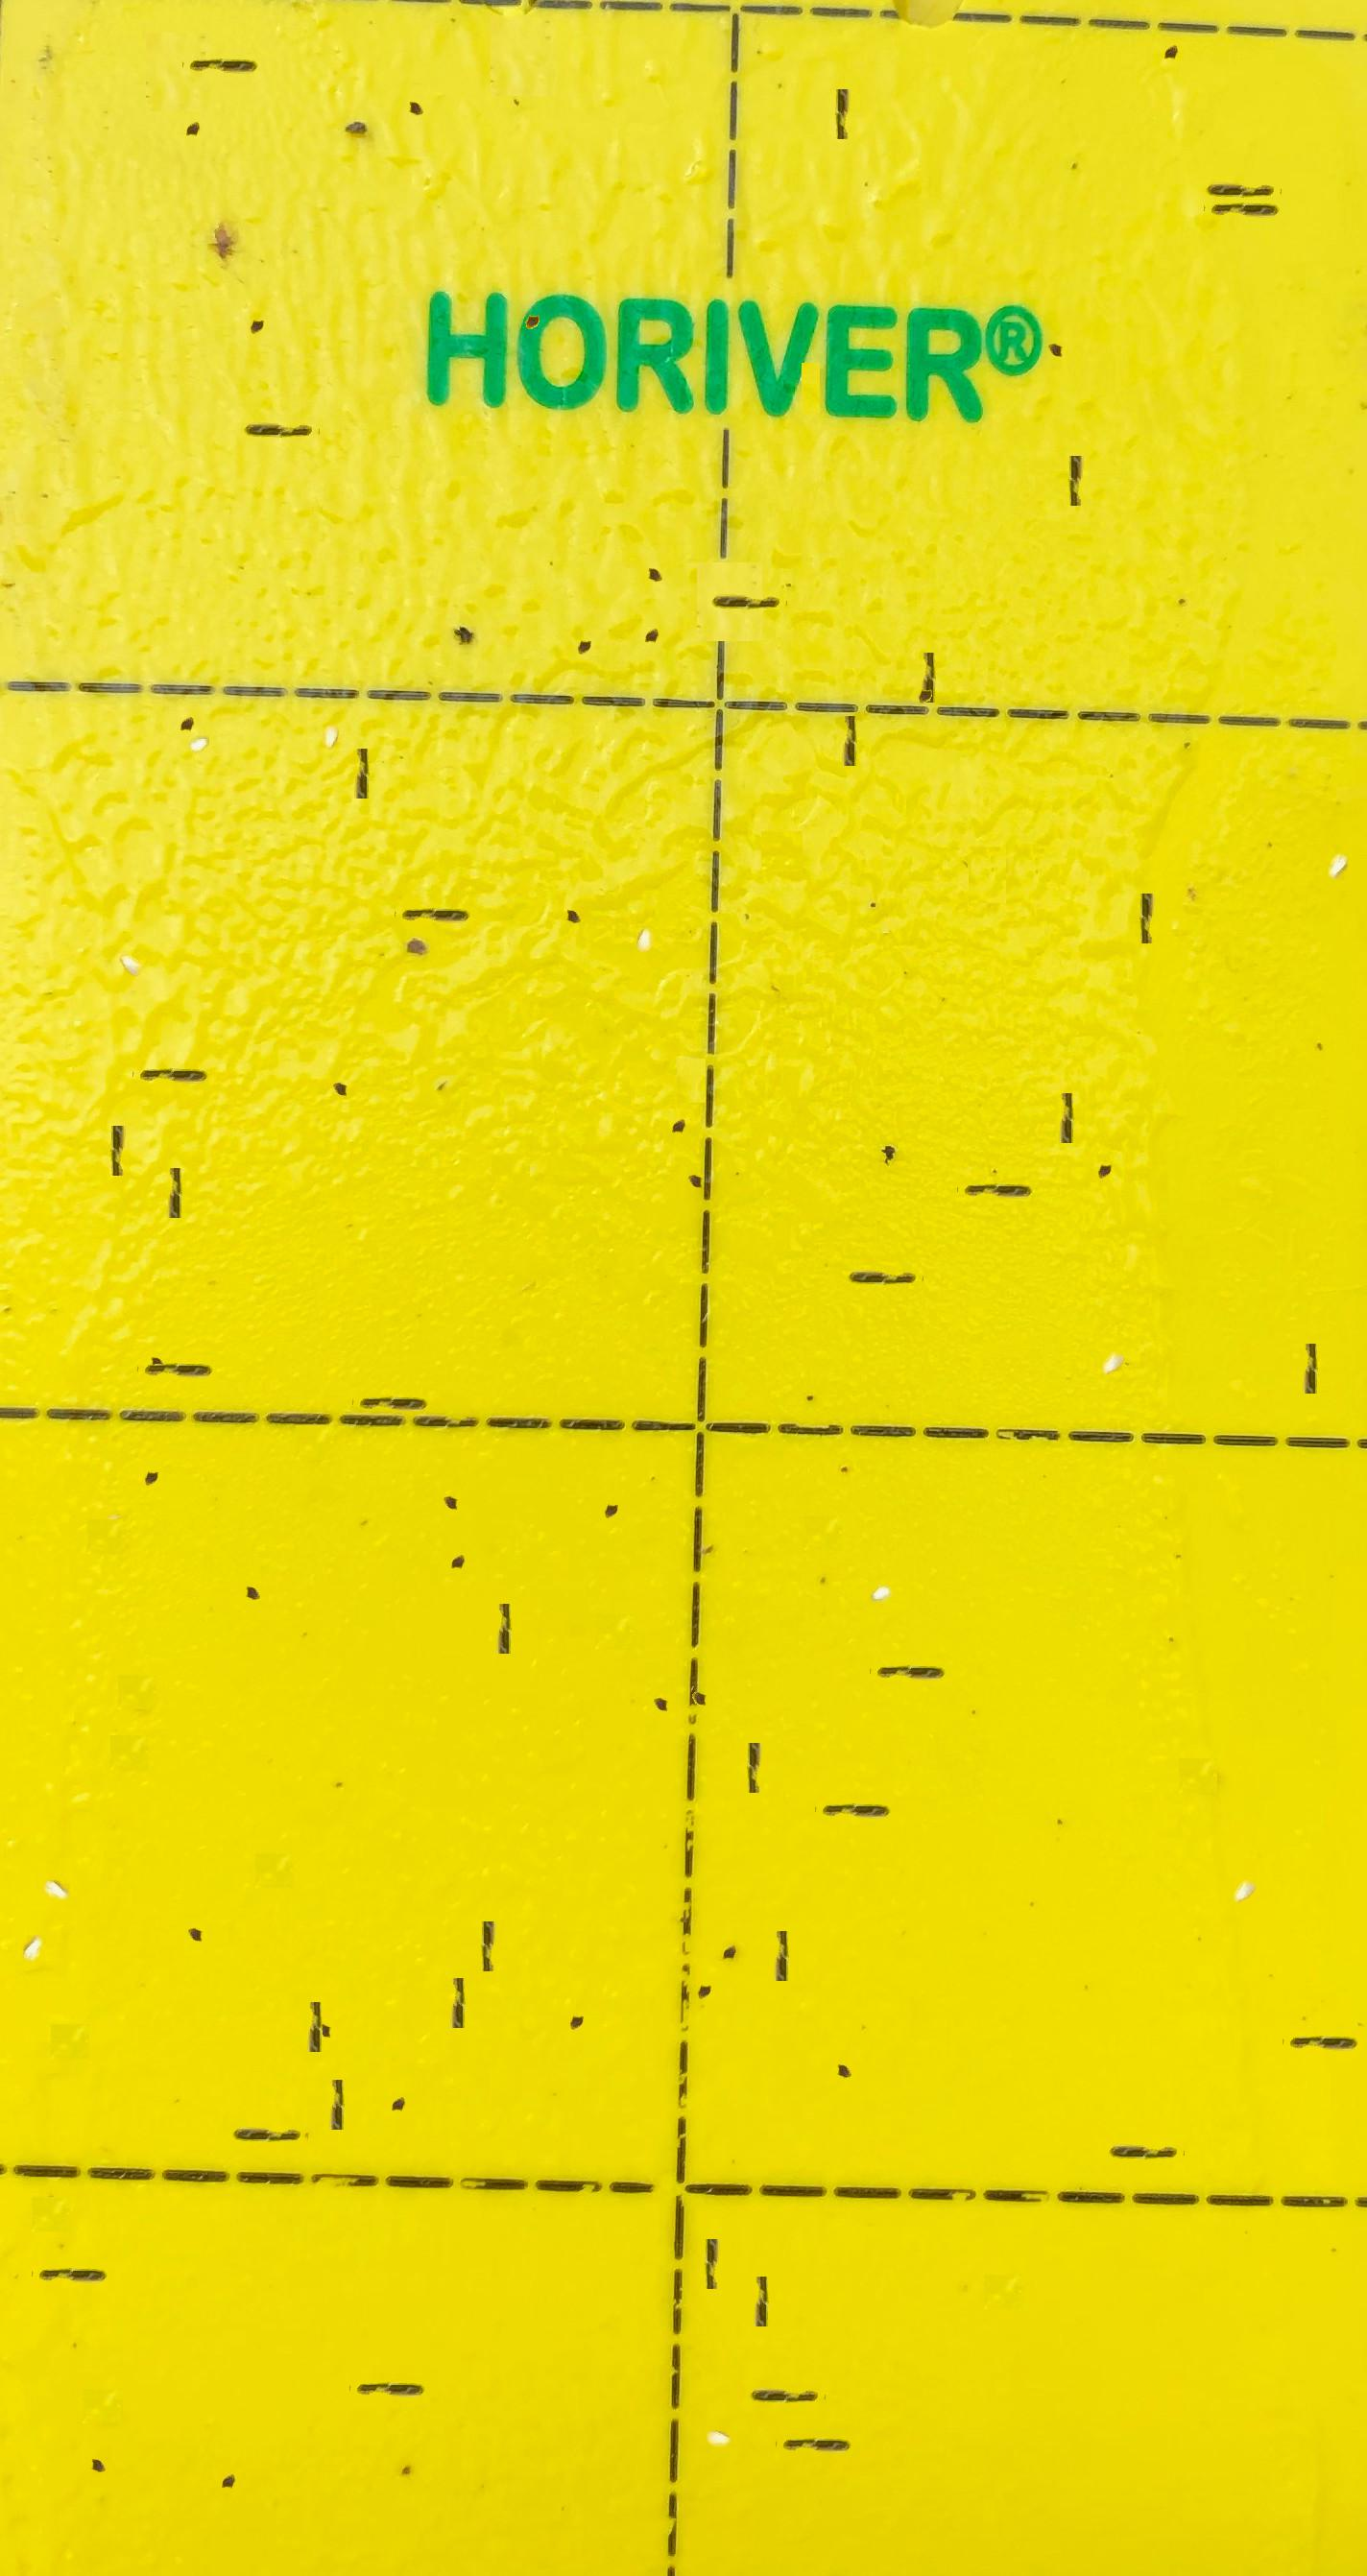white_fly: (861, 1521, 903, 1571), (177, 671, 218, 721), (32, 1823, 75, 1869), (14, 1884, 56, 1929), (1224, 1825, 1266, 1869), (111, 901, 153, 944), (1093, 1298, 1135, 1341), (1316, 796, 1357, 840), (622, 884, 663, 922), (697, 2380, 738, 2418), (312, 680, 353, 717)
